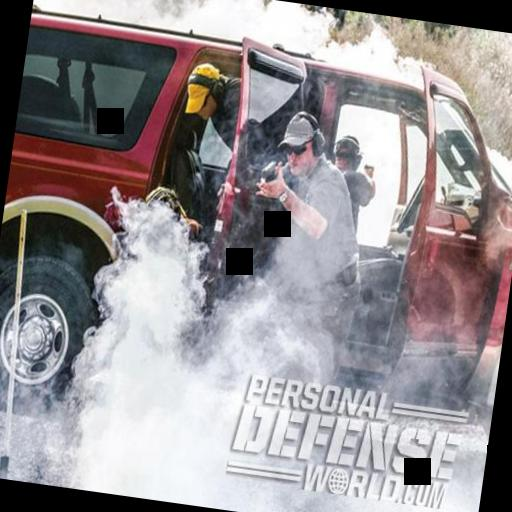Handgun: (257, 154, 277, 186), (361, 161, 373, 176)
